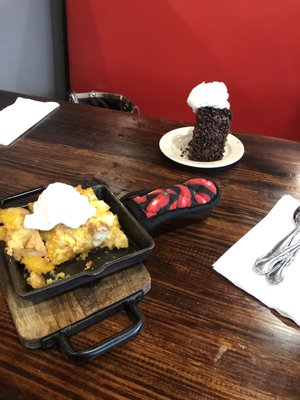sandwich: (252, 206, 300, 279)
